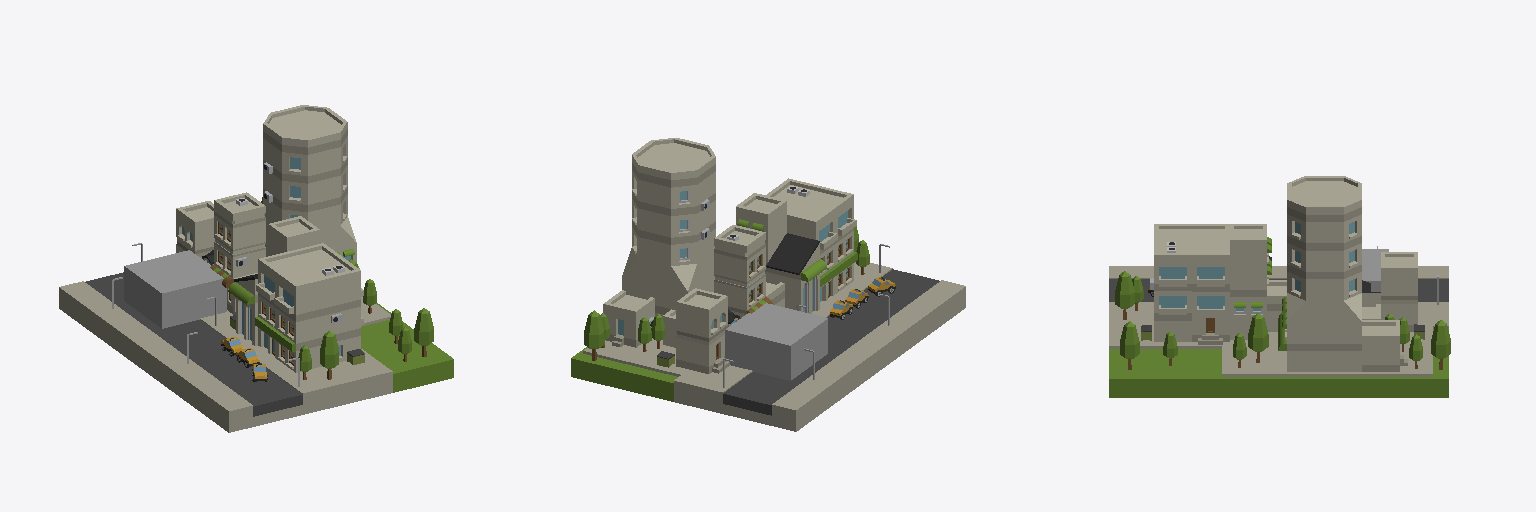
The model's file is building.obj.
3 views of the same model, side by side, from view 1: azimuth 30°, elevation 25°; view 2: azimuth 150°, elevation 25°; view 3: azimuth 270°, elevation 25° (orthographic).
Visible parts, largest first — view 1: Group3, Group2, Cube, Group1, Group58, Group18, Group110, Group101, Group41, Group23, Group35, Group51 (+18 smaller); view 2: Group58, Cube, Group3, Group57, Group1, Group38, Group124, Group70, Group121, Group105, Group41, Group96 (+21 smaller); view 3: Group2, Group4, Group57, Group58, Group3, Group118, Group157, Group73, Group119, Group36, Group154, Group155 (+28 smaller).
Boxes of the visible parts, box(x1,y1,x2,y2) form: Group3: box(172, 347, 326, 432); Group2: box(307, 320, 453, 408); Cube: box(124, 250, 226, 328); Group1: box(116, 313, 263, 390); Group58: box(59, 272, 150, 349); Group18: box(274, 280, 328, 314); Group110: box(273, 146, 323, 175); Group101: box(273, 174, 323, 204); Group41: box(214, 215, 265, 249); Group23: box(277, 309, 328, 343); Group35: box(268, 216, 319, 244); Group51: box(214, 192, 265, 220); Group58: box(698, 361, 852, 431); Cube: box(725, 303, 827, 380); Group3: box(820, 263, 965, 348); Group57: box(571, 338, 715, 407); Group1: box(812, 306, 909, 389); Group38: box(766, 233, 819, 274); Group124: box(676, 334, 729, 373); Group70: box(655, 257, 706, 291); Group121: box(676, 304, 727, 337); Group105: box(655, 178, 706, 208); Group41: box(714, 247, 765, 281); Group96: box(655, 209, 706, 237); Group2: box(1109, 314, 1221, 397); Group4: box(1222, 332, 1334, 397); Group57: box(1335, 314, 1448, 397); Group58: box(1418, 266, 1448, 313); Group3: box(1109, 266, 1153, 313); Group118: box(1362, 344, 1407, 371); Group157: box(1192, 313, 1229, 344); Group73: box(1282, 312, 1324, 343); Group119: box(1362, 320, 1399, 343); Group36: box(1230, 259, 1271, 289); Group154: box(1154, 291, 1191, 314); Group155: box(1192, 292, 1229, 315).
Bounding box in the file's own units: 6.89 × 5.81 × 9.07.